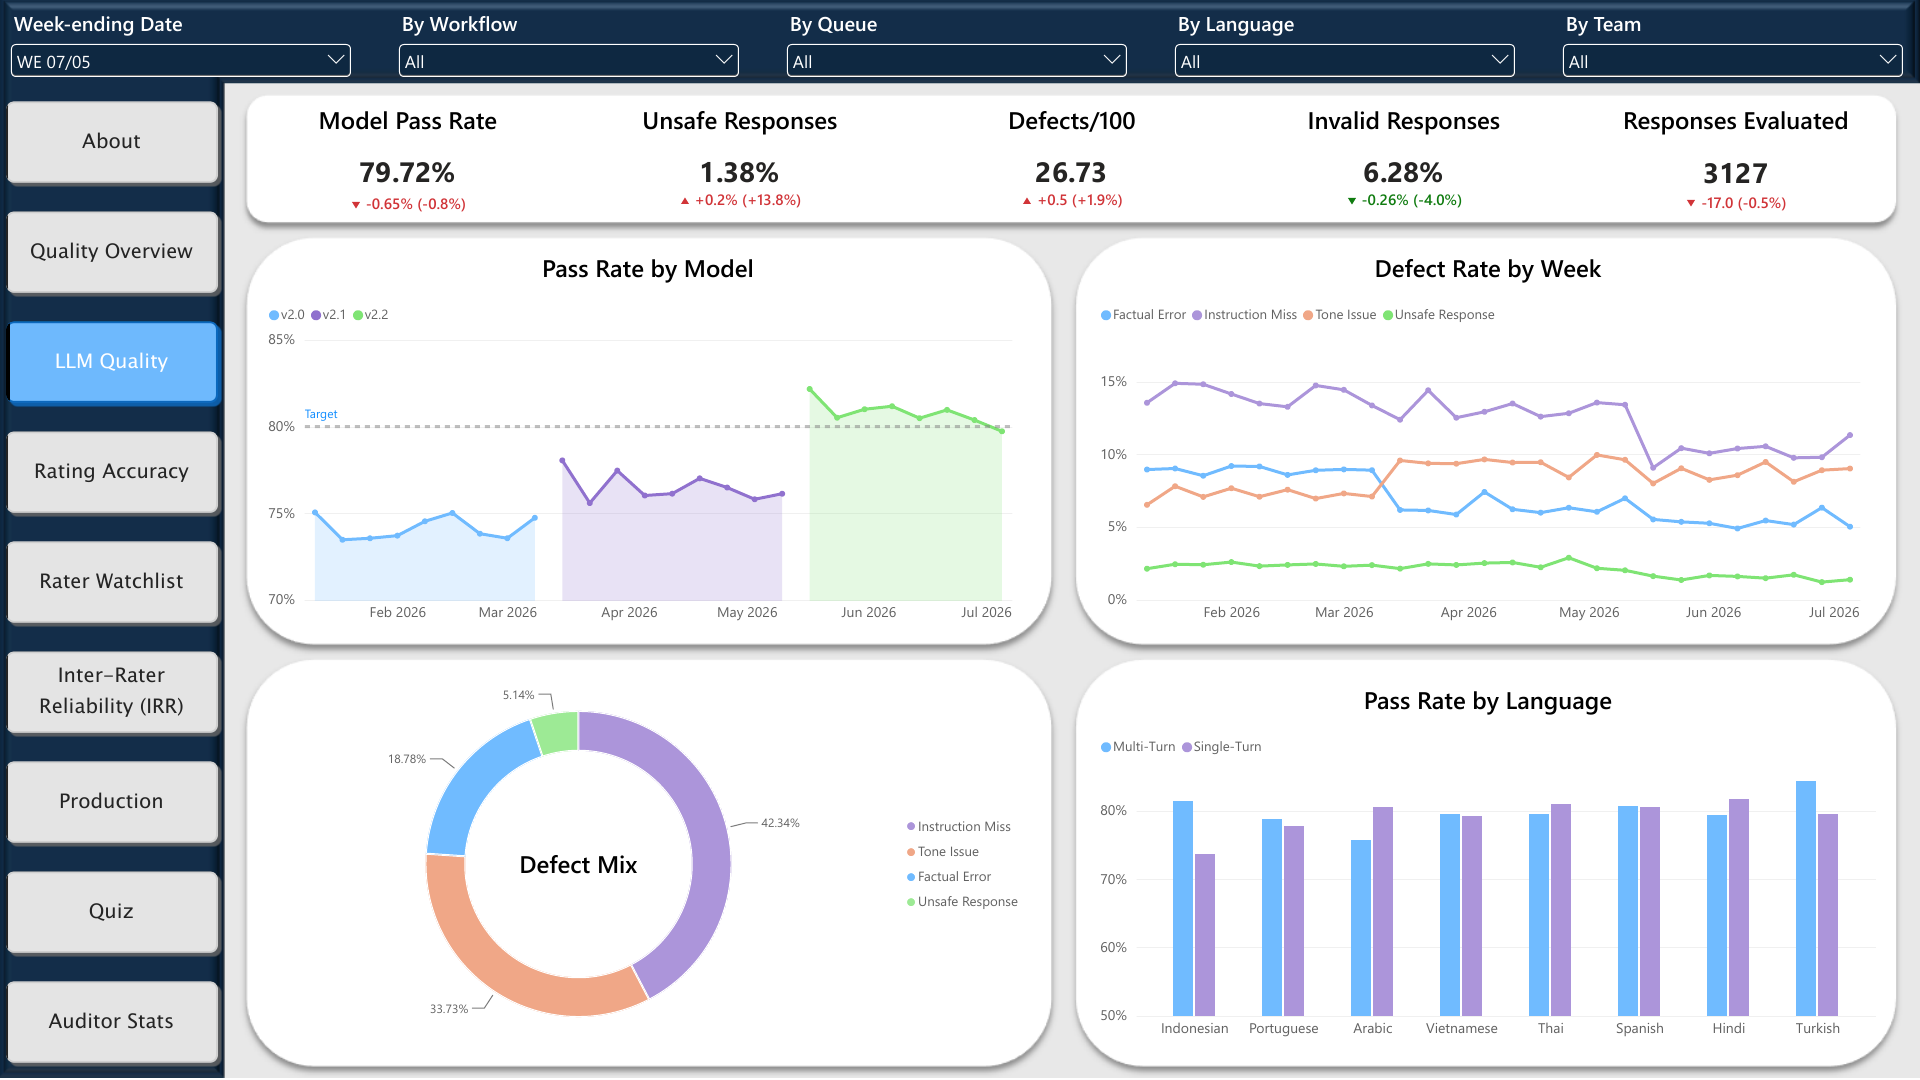

This screenshot's page, from the dashboard's own definition file:
{"tool":"powerbi","page":{"name":"LLM Quality","canvas":[1920,1080],"ordinal":2},"visuals":[{"type":"slicer","title":"By WE","fields":{"Values":["Dim_Date.week_label"]},"box":[6,9.8,350,80],"z":0,"group":"g1"},{"type":"kpiDeltaCard19E62BB5C11A4774B7662F26EC222138","title":"Model Pass Rate","fields":{"category":["Dim_Date.week_end"],"measure":["_Measures.LLM Pass Rate"],"comparison":["_Measures.LLM Pass Rate Prev Week"]},"box":[272,90,272,140],"z":0},{"type":"slicer","fields":{"Values":["Dim_Rater.team"]},"box":[1558,9.8,350,80],"z":1000,"group":"g1"},{"type":"kpiDeltaCard19E62BB5C11A4774B7662F26EC222138","title":"Unsafe Responses","fields":{"category":["Dim_Date.week_end"],"measure":["_Measures.Unsafe Rate"],"comparison":["_Measures.Unsafe Rate Prev Week"]},"box":[604,90,272,140],"z":1000},{"type":"slicer","fields":{"Values":["Dim_Rater.language"]},"box":[1170,9.8,350,80],"z":2000,"group":"g1"},{"type":"kpiDeltaCard19E62BB5C11A4774B7662F26EC222138","title":"Defects/100","fields":{"category":["Dim_Date.week_end"],"measure":["_Measures.Defects per 100 Responses"],"comparison":["_Measures.Defects per 100 Prev Week"]},"box":[936,90,272,140],"z":2000},{"type":"slicer","fields":{"Values":["Dim_Queue.queue_id"]},"box":[782,9.8,350,80],"z":3000,"group":"g1"},{"type":"kpiDeltaCard19E62BB5C11A4774B7662F26EC222138","title":"Invalid Responses","fields":{"category":["Dim_Date.week_end"],"measure":["_Measures.Rejected Rate"],"comparison":["_Measures.Invalid Response Rate Prev Week"]},"box":[1268,90,272,140],"z":3000},{"type":"slicer","fields":{"Values":["Dim_Queue.workflow"]},"box":[394,9.8,350,80],"z":4000,"group":"g1"},{"type":"areaChart","title":"Pass Rate by Model","fields":{"Category":["Dim_Date.week_end"],"Series":["Dim_Model.model_version"],"Y":["_Measures.LLM Pass Rate"]},"box":[256,240,784,400],"z":4000},{"type":"lineChart","title":"Defect Rate by Week","fields":{"Category":["Dim_Date.week_end"],"Series":["Dim_Label.label_display"],"Y":["_Measures.Label Truth Rate"]},"box":[1088,240,800,400],"z":5000},{"type":"donutChart","title":"Defect Mix %","fields":{"Category":["Dim_Label.label_display"],"Y":["_Measures.Defect Mix %"]},"box":[240,648,800,432],"z":6000},{"type":"clusteredColumnChart","title":"Pass Rate by Language","fields":{"Category":["Dim_Queue.language"],"Series":["Dim_Queue.task_type"],"Y":["_Measures.LLM Pass Rate"]},"box":[1088,672,800,384],"z":7000},{"type":"kpiDeltaCard19E62BB5C11A4774B7662F26EC222138","title":"Responses Evaluated","fields":{"category":["Dim_Date.week_end"],"measure":["_Measures.Responses Evaluated"],"comparison":["_Measures.Responses Evaluated Prev Week"]},"box":[1600,90,272,144],"z":8000},{"type":"group","id":"g1","title":"Group 4","box":[0,9.8,1908,1062.2],"z":9000},{"type":"pageNavigator","box":[0,96,224,976],"z":9000,"group":"g1"}]}

Visuals, with their boxes in screenshot pixels (x1, y1, x2, y2), scaled from the page's 1920x1080 canvas onto the 1920x1080 screenshot:
"By WE" slicer: region(6, 10, 356, 90)
"Model Pass Rate" kpiDeltaCard19E62BB5C11A4774B7662F26EC222138: region(272, 90, 544, 230)
slicer - Dim_Rater.team: region(1558, 10, 1908, 90)
"Unsafe Responses" kpiDeltaCard19E62BB5C11A4774B7662F26EC222138: region(604, 90, 876, 230)
slicer - Dim_Rater.language: region(1170, 10, 1520, 90)
"Defects/100" kpiDeltaCard19E62BB5C11A4774B7662F26EC222138: region(936, 90, 1208, 230)
slicer - Dim_Queue.queue_id: region(782, 10, 1132, 90)
"Invalid Responses" kpiDeltaCard19E62BB5C11A4774B7662F26EC222138: region(1268, 90, 1540, 230)
slicer - Dim_Queue.workflow: region(394, 10, 744, 90)
"Pass Rate by Model" areaChart: region(256, 240, 1040, 640)
"Defect Rate by Week" lineChart: region(1088, 240, 1888, 640)
"Defect Mix %" donutChart: region(240, 648, 1040, 1079)
"Pass Rate by Language" clusteredColumnChart: region(1088, 672, 1888, 1056)
"Responses Evaluated" kpiDeltaCard19E62BB5C11A4774B7662F26EC222138: region(1600, 90, 1872, 234)
"Group 4" group: region(0, 10, 1908, 1072)
pageNavigator: region(0, 96, 224, 1072)
